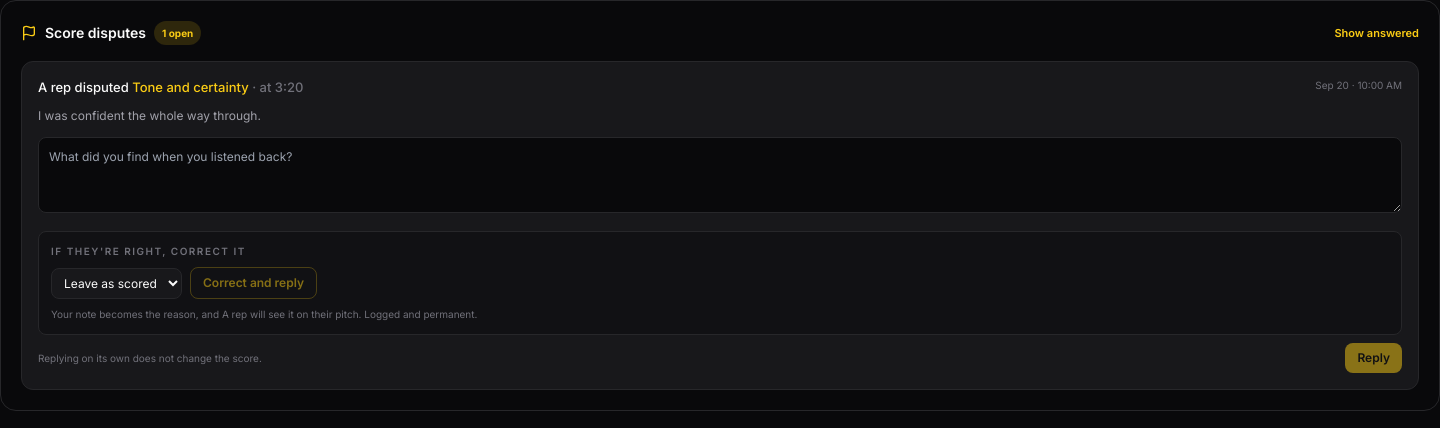
Test: replying › reloads the queue after a saved reply
Check: the text "A rep disputed Tone and certainty · at 3:20" is shown, box 38,78 -> 303,98
In the text box named "Reply to this dispute": (720,175) 38,137 -> 1402,213, type "Listened back, you are right"
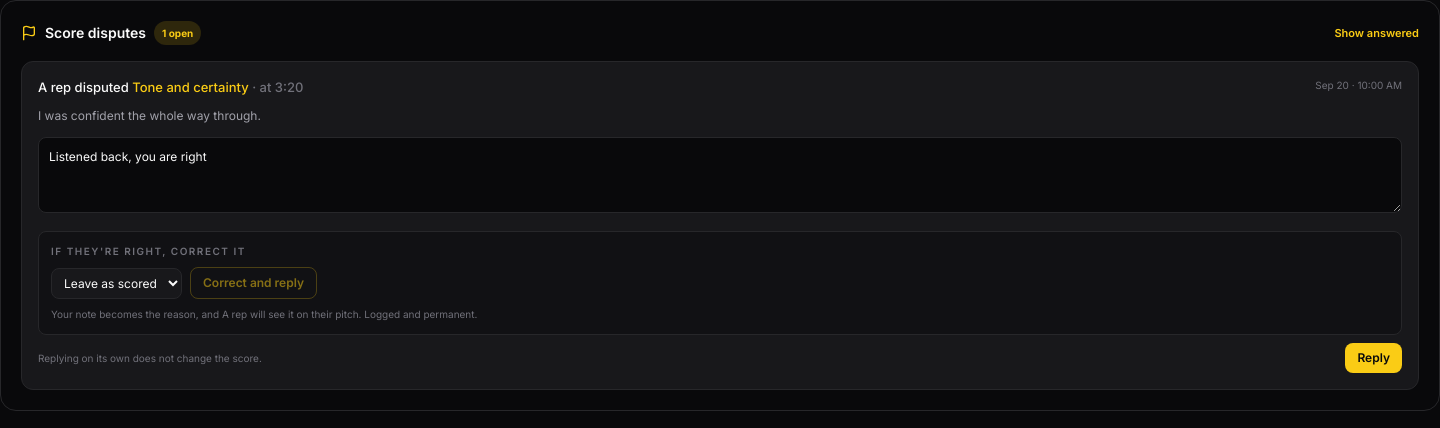
Click the button "Reply": (1374,358) 1345,343 -> 1402,373
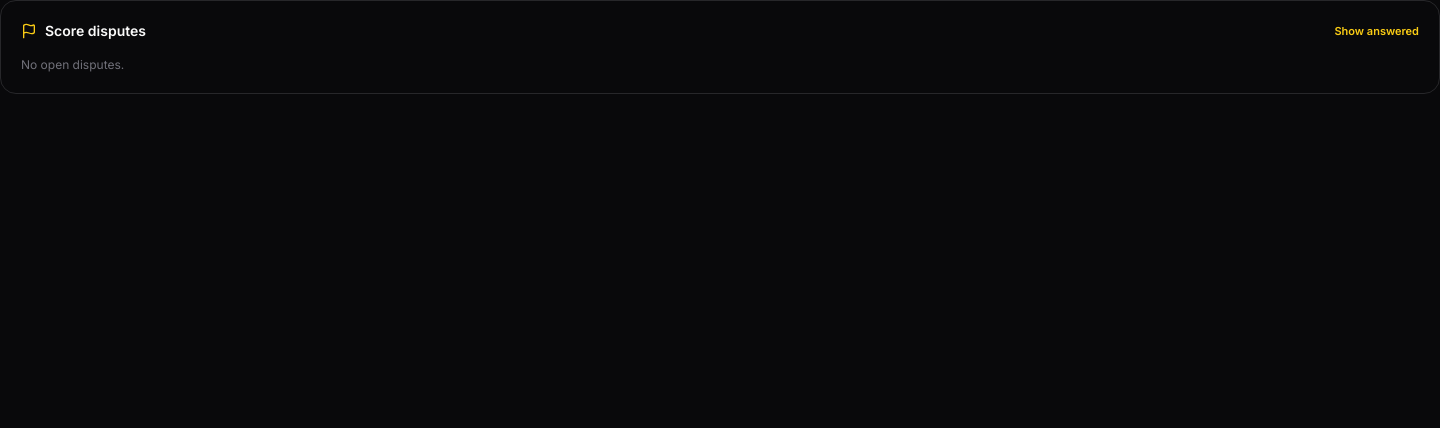
Check: the text "No open disputes." is shown, box 21,57 -> 124,72
